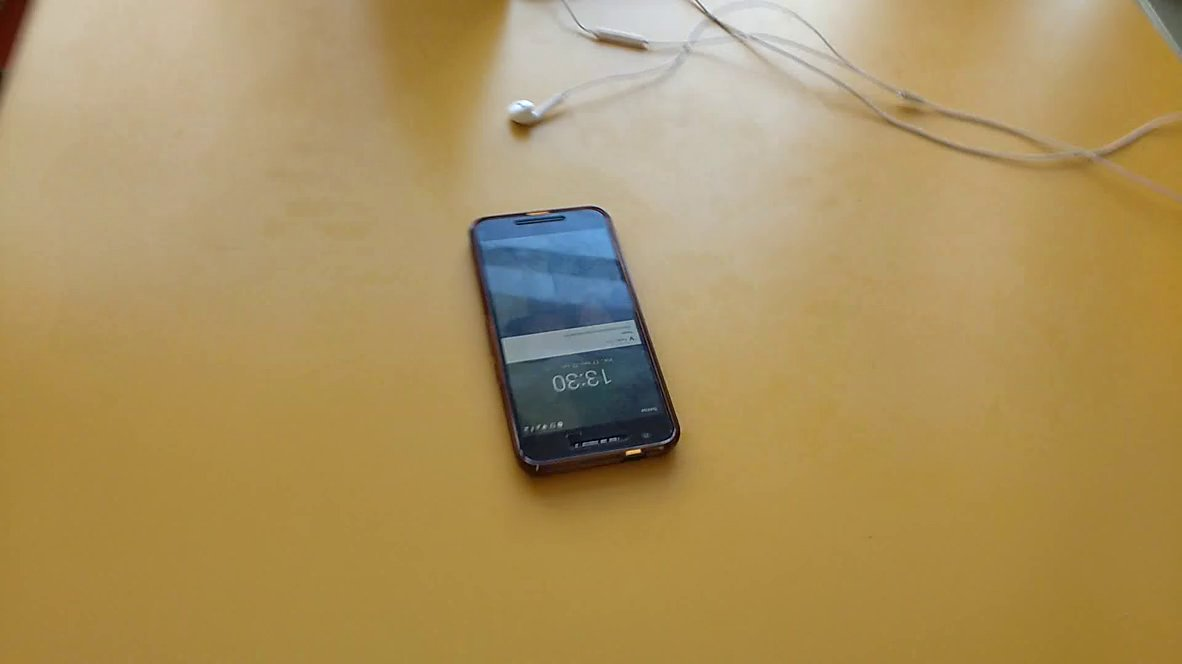phone: (454, 195, 691, 501)
